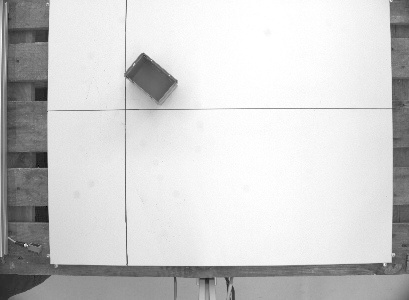kltxs: (121, 50, 181, 107)
